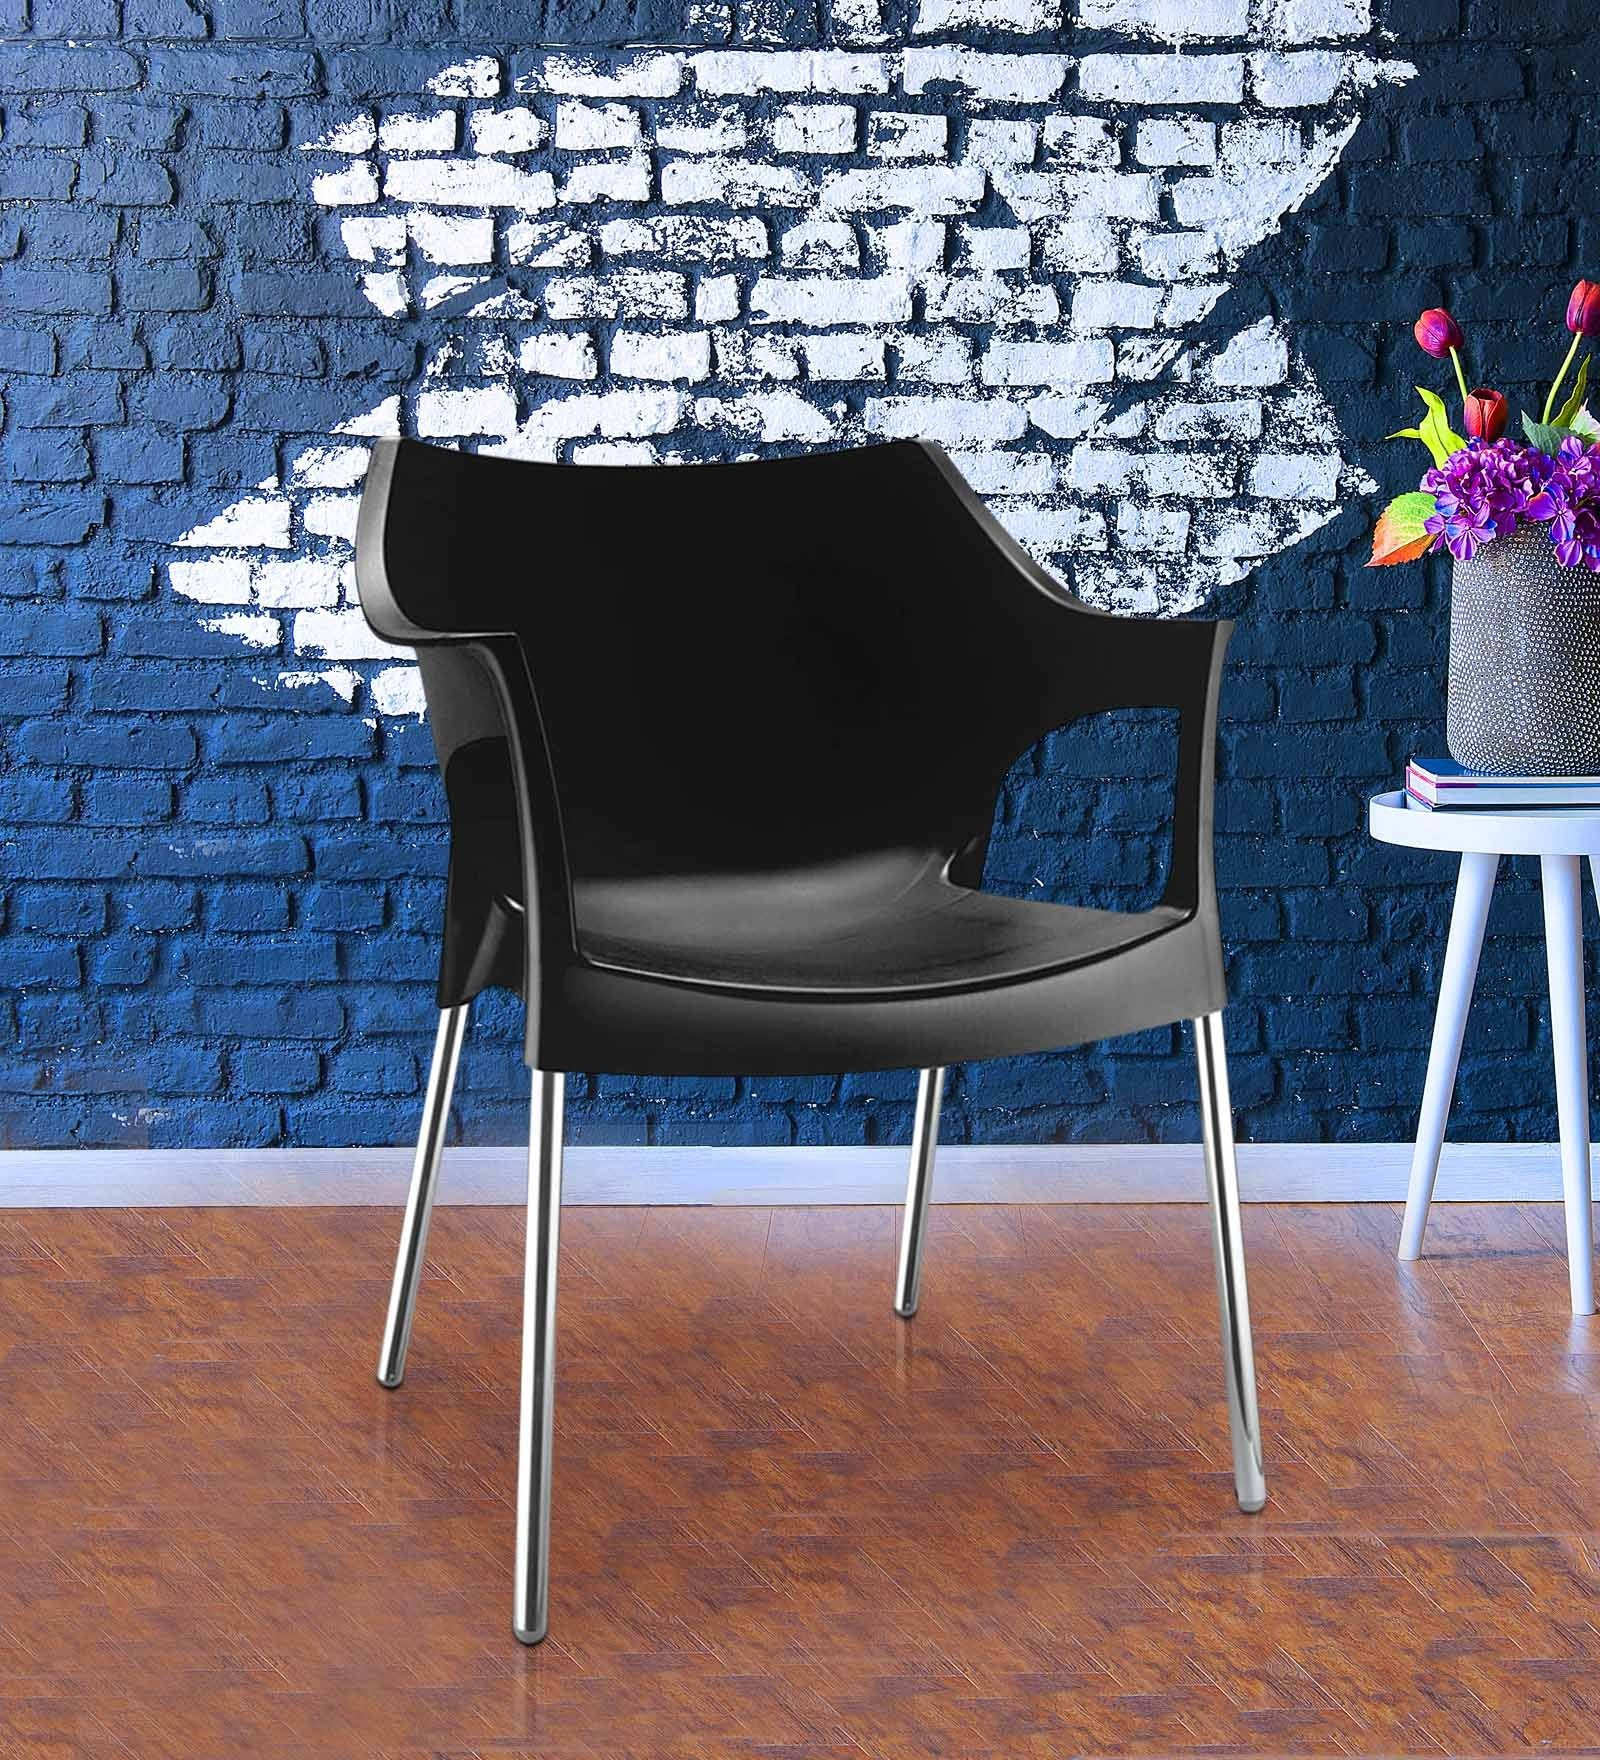Novella Chair in Black Colour by Nilkamal: (349, 429, 1287, 1653)
